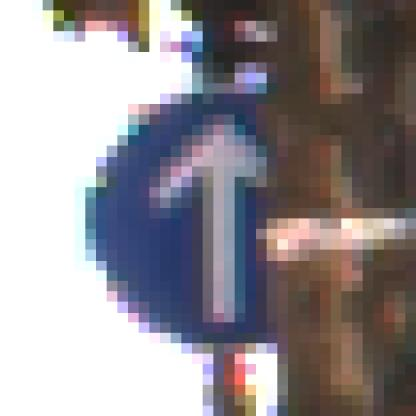AheadOnly: (65, 64, 364, 355)
